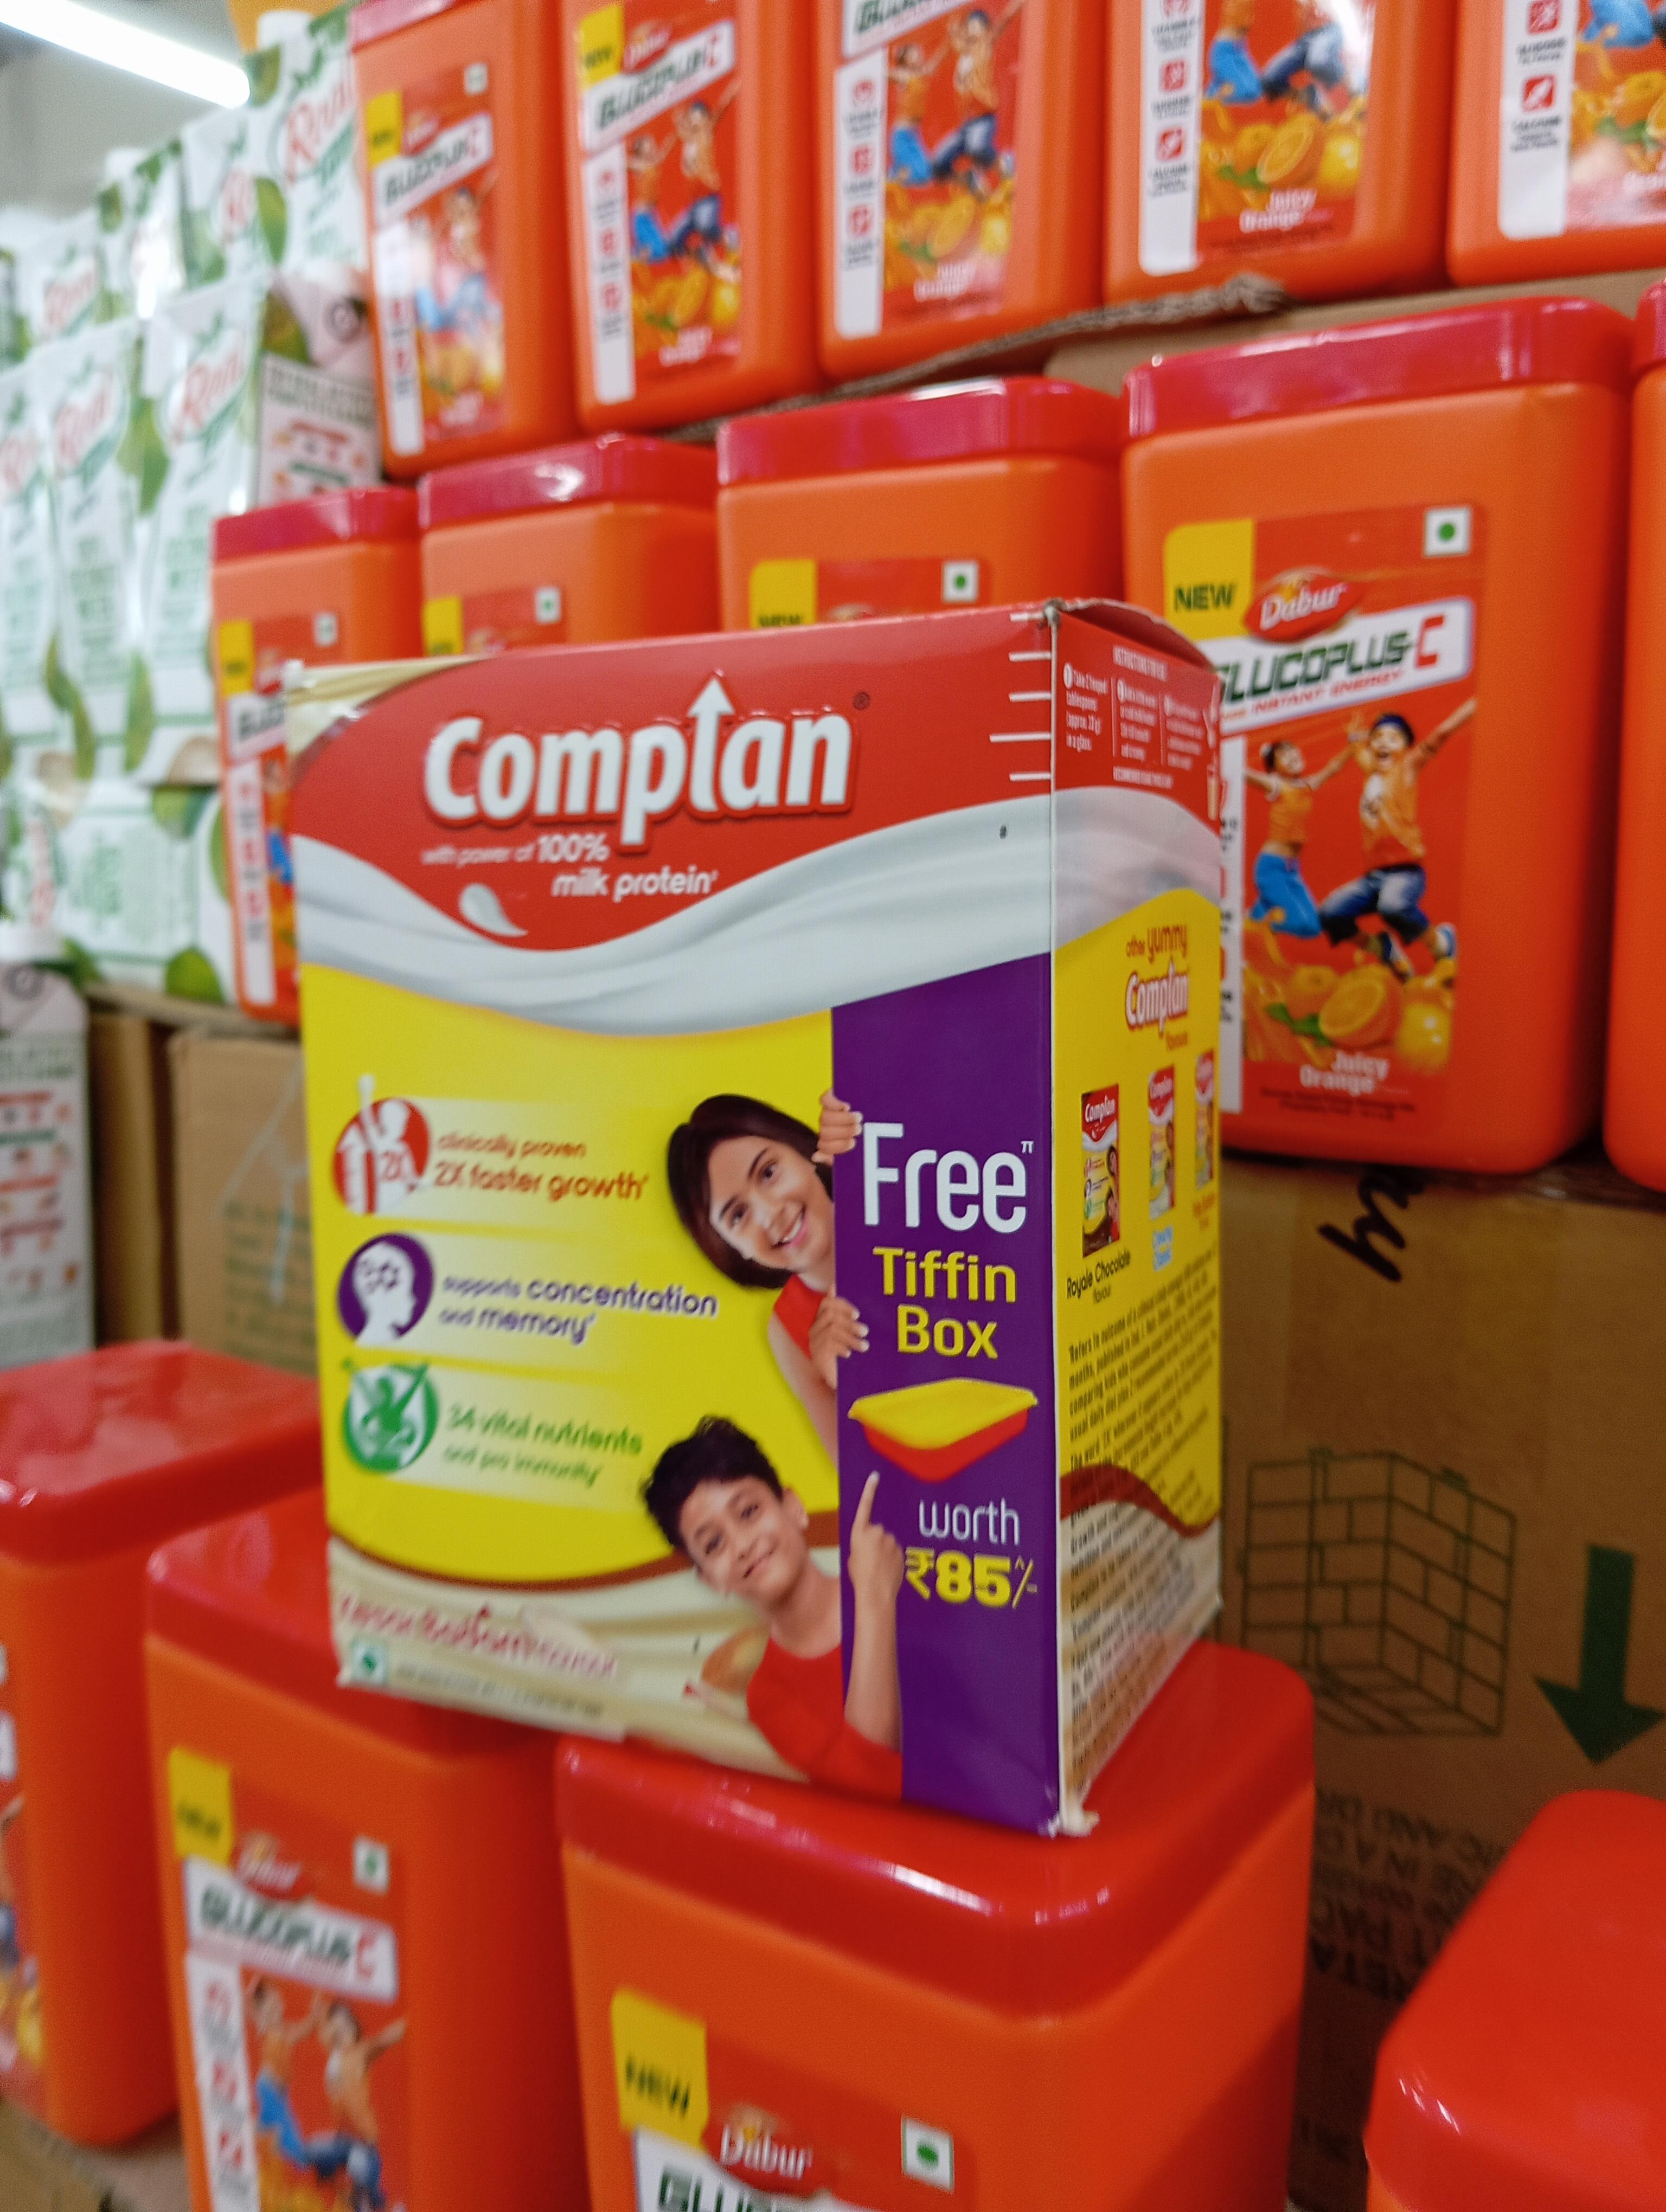COMPLAN_KESAR_BADAM_500_GMS_PACK: (301, 631, 1059, 1829)
